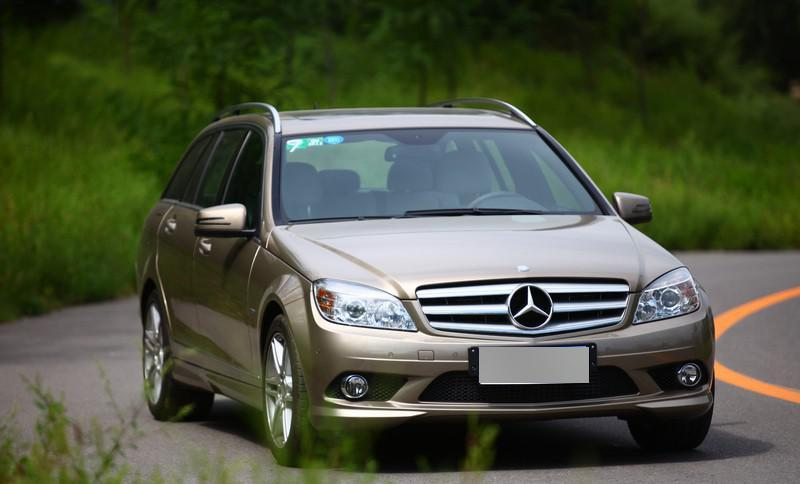Wagon: (134, 97, 717, 467)
